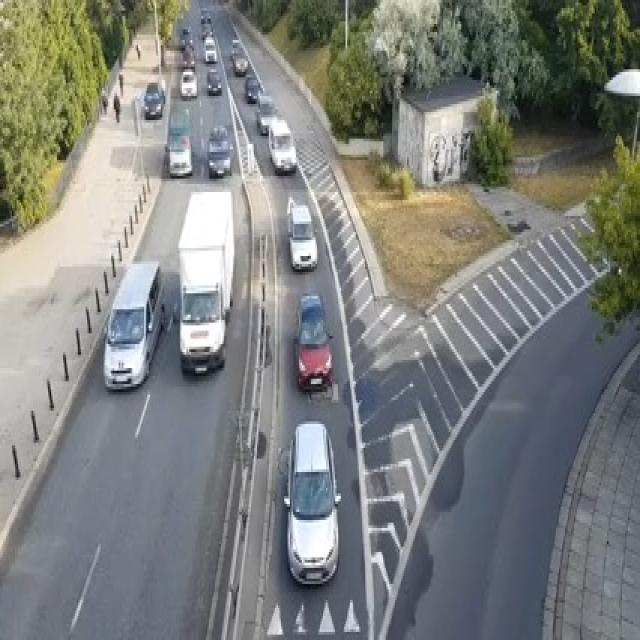bus: (178, 190, 235, 373)
car: (281, 418, 341, 586), (102, 259, 165, 389), (293, 291, 333, 392), (285, 195, 317, 269), (267, 118, 296, 174), (206, 123, 231, 176), (164, 131, 192, 176), (255, 94, 278, 134), (142, 80, 164, 117), (179, 69, 197, 99), (230, 45, 248, 75), (206, 67, 221, 93), (244, 75, 258, 101), (204, 35, 217, 61), (182, 46, 195, 70), (179, 27, 192, 50), (157, 75, 166, 104), (230, 37, 240, 59), (201, 21, 212, 40), (200, 6, 210, 22)
